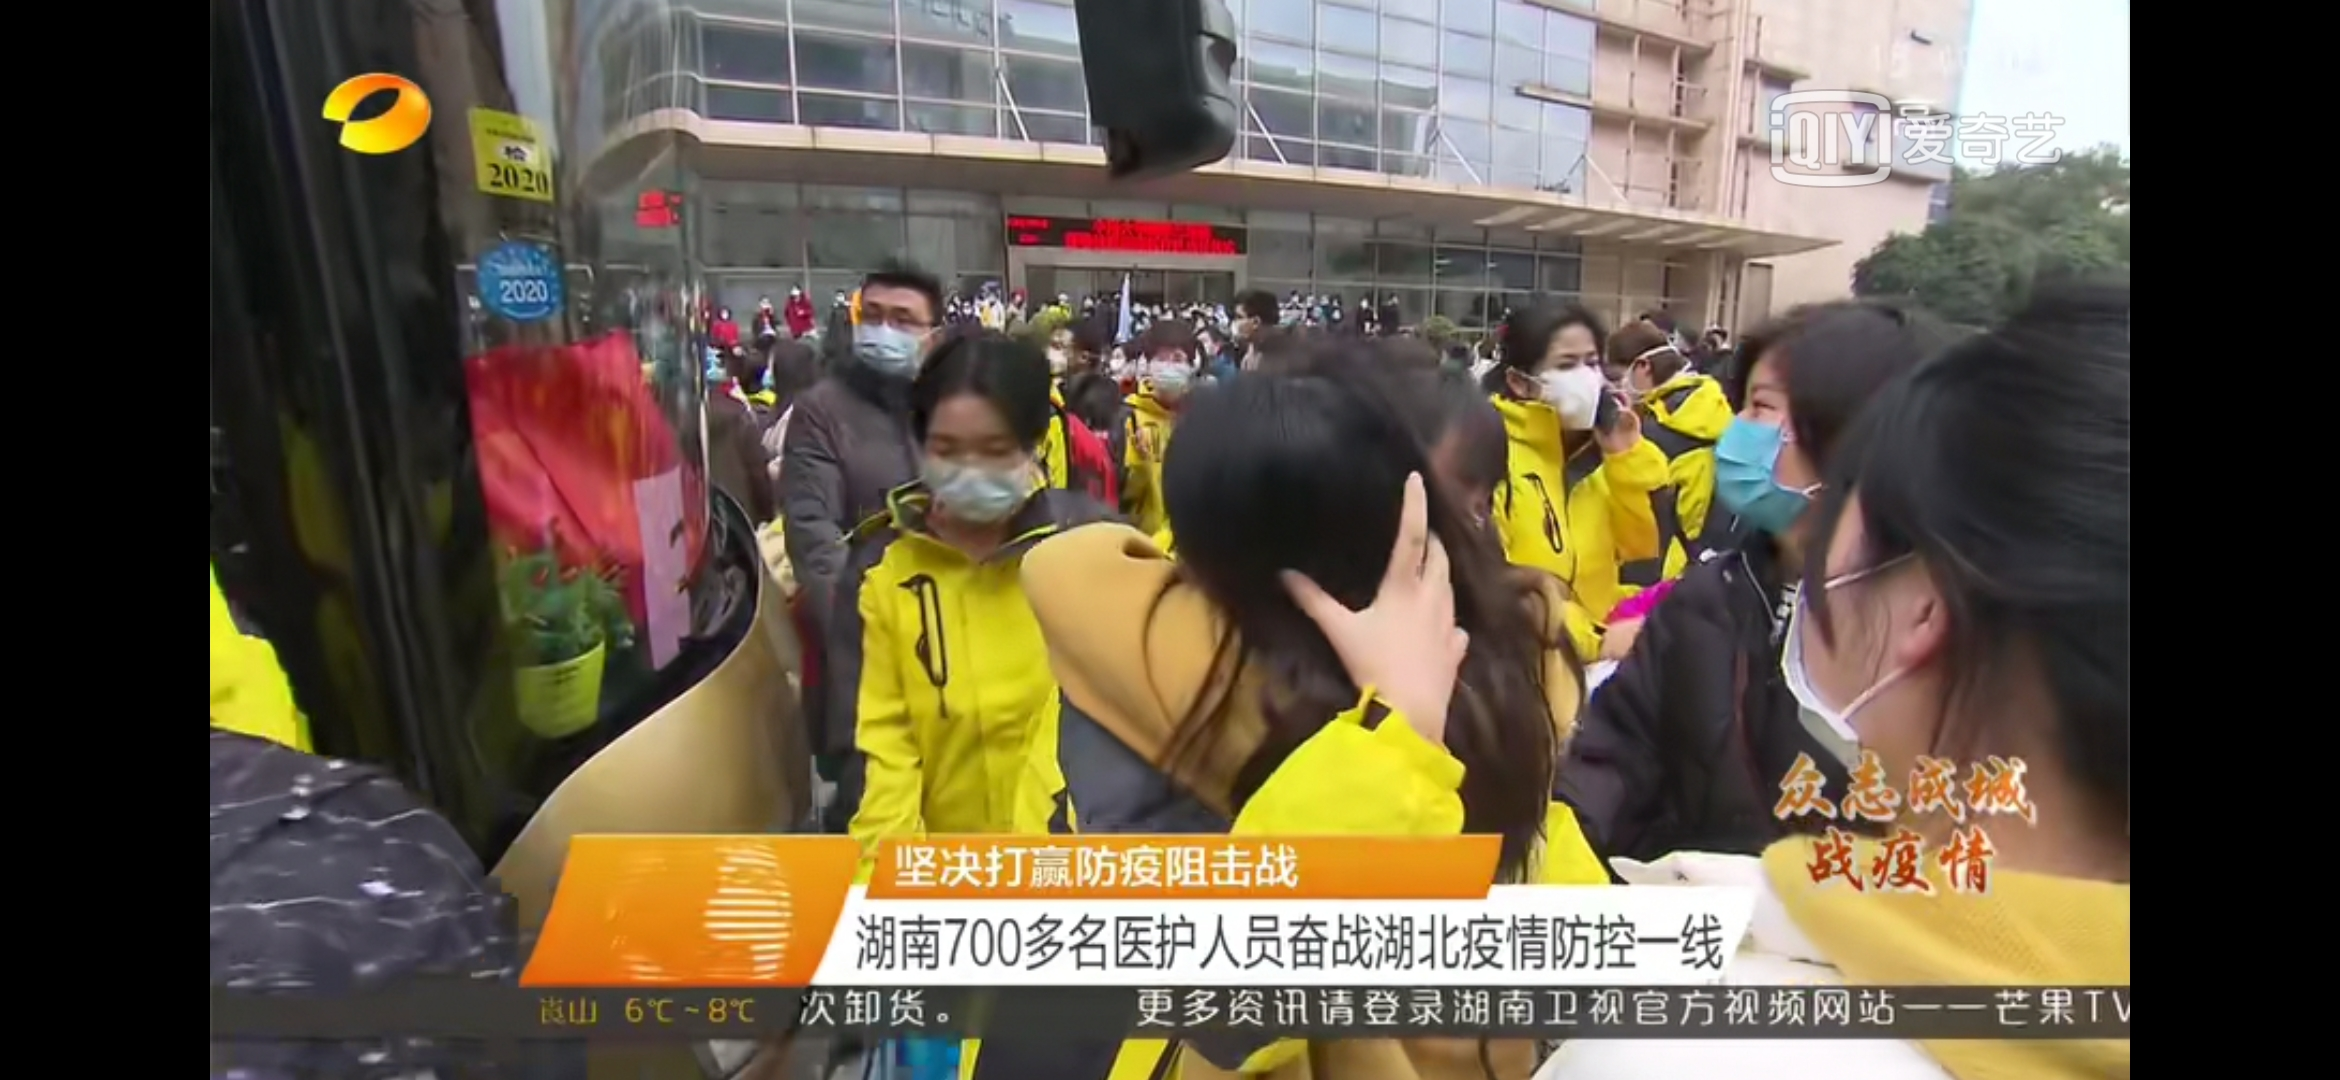correctlyWear: (1777, 486, 1979, 794), (1719, 382, 1828, 549), (912, 418, 1042, 530), (1503, 336, 1604, 442), (849, 292, 934, 380), (1609, 345, 1658, 409), (1151, 349, 1195, 401), (1048, 336, 1077, 377), (1233, 307, 1260, 349)
